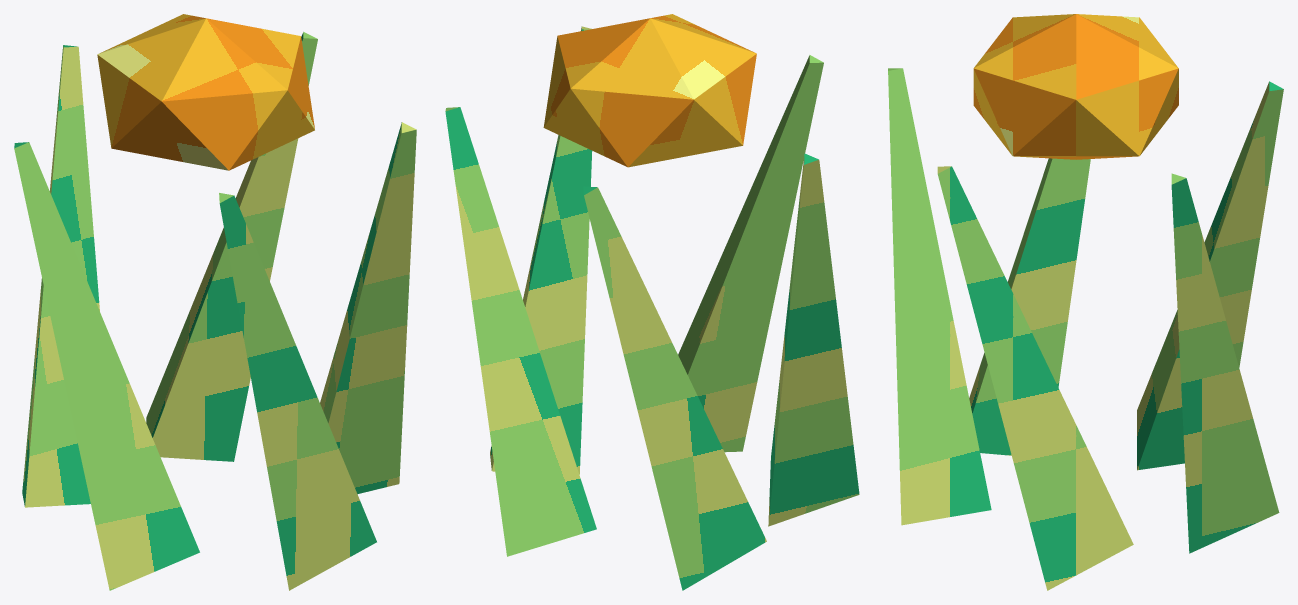
The model's file is r09_flor_do_vento.glb.
3 views of the same model, side by side, from view 1: azimuth 30°, elevation 25°; view 2: azimuth 150°, elevation 25°; view 3: azimuth 270°, elevation 25° (orthographic). The views are drawn at different scales.
Parts seen in each view (by area): view 1: r09_flor_do_vento; view 2: r09_flor_do_vento; view 3: r09_flor_do_vento.
Part boxes in pixels (box(x1,y1,x2,y2)): r09_flor_do_vento: box(14, 14, 416, 590); r09_flor_do_vento: box(445, 14, 859, 590); r09_flor_do_vento: box(888, 14, 1283, 590).
Bounding box in the file's own units: 0.4083 × 0.5473 × 0.3937.
Materials: 2 (2 with a texture image).
